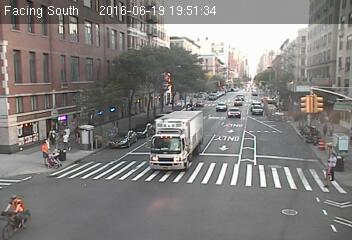neg: (4, 192, 32, 228), (232, 41, 255, 71), (307, 87, 328, 114), (225, 144, 245, 171), (51, 46, 70, 72), (118, 147, 136, 171), (189, 152, 206, 176), (270, 184, 287, 208), (95, 101, 112, 124), (270, 130, 287, 153), (192, 194, 209, 217), (158, 66, 174, 88), (230, 93, 246, 114), (137, 105, 153, 125), (149, 196, 164, 217), (93, 181, 108, 202), (164, 126, 179, 146), (187, 79, 201, 98)
pos: (321, 160, 341, 187), (35, 139, 53, 163)
